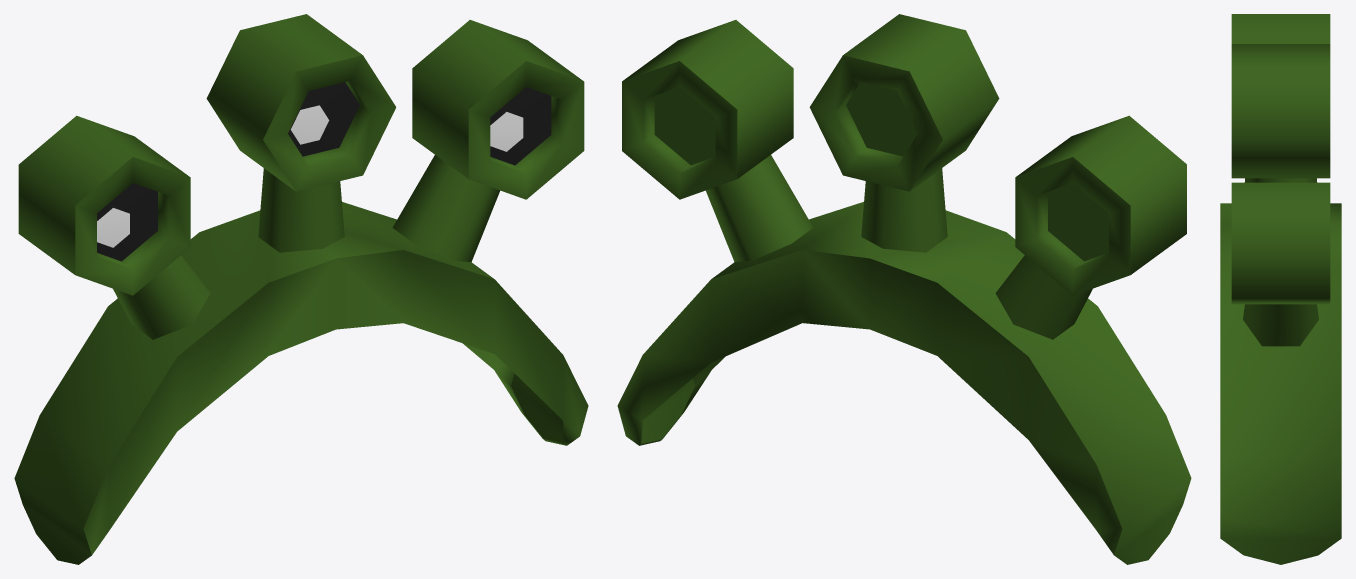
File: Hat_Alien.fbx
3 views of the same model, side by side, from view 1: azimuth 30°, elevation 25°; view 2: azimuth 150°, elevation 25°; view 3: azimuth 270°, elevation 25° (orthographic). The views are drawn at different scales.
Parts seen in each view (by area): view 1: Alien; view 2: Alien; view 3: Alien.
Boxes of the visible parts, x1,y1,x2,y2 form: Alien: (14,14,588,564); Alien: (617,14,1191,564); Alien: (1220,14,1341,564).
Size of the model in its own units: 102 by 87.33 by 23.89.
